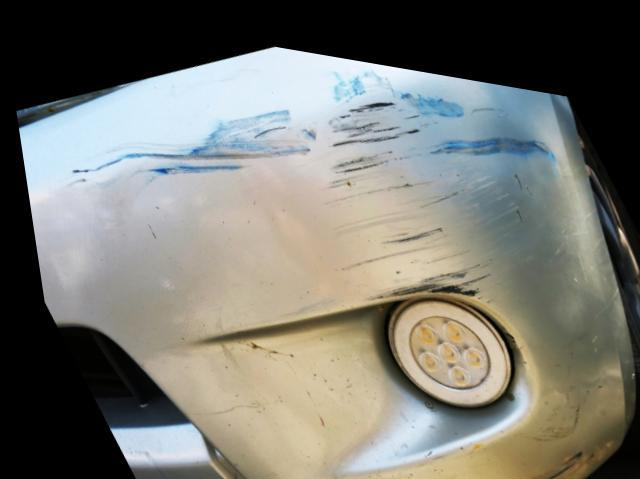scratch: (52, 55, 553, 292), (485, 425, 582, 479)
